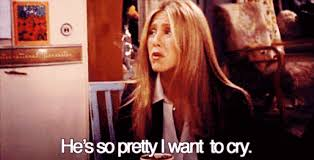middle_eastern_Female: (148, 13, 185, 73)
